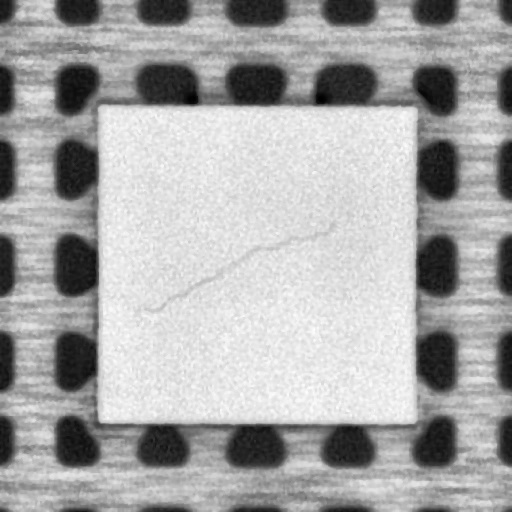DIE_CRACK: (142, 226, 322, 314)
